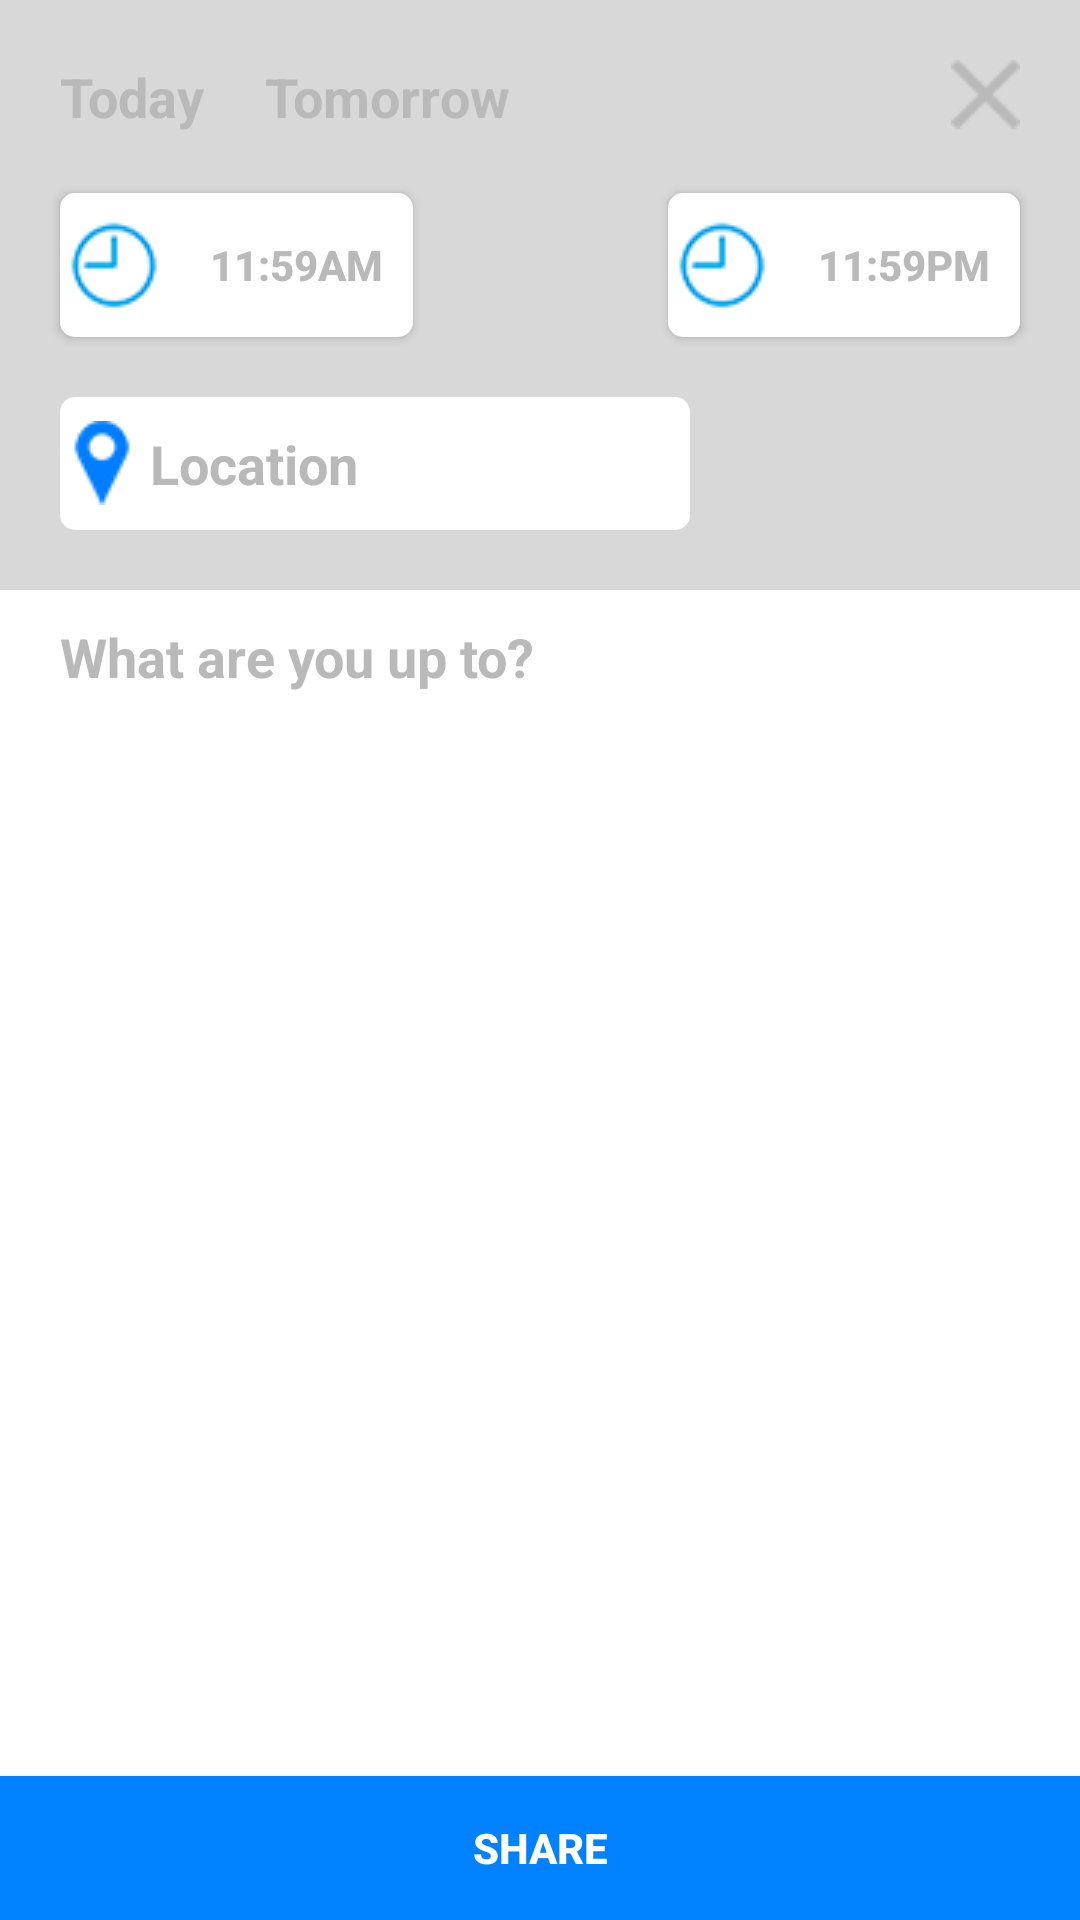

Locate icon controls on the screen. Image size 1080px×1920px, boxes as (x1, y1, x2, y2).
close: (951, 63, 1020, 127)
